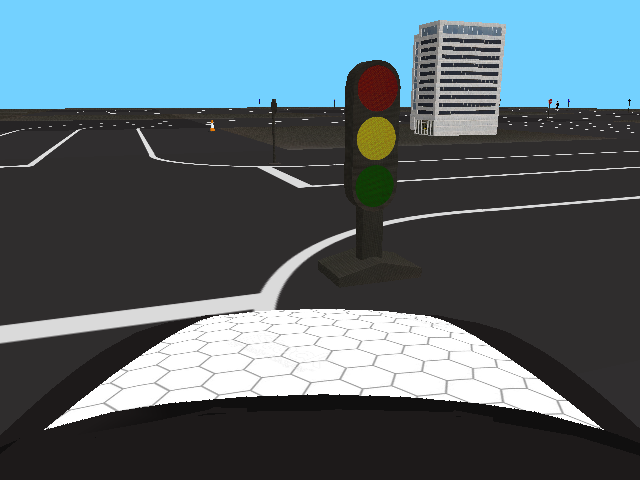yellow_light: (343, 59, 400, 209)
